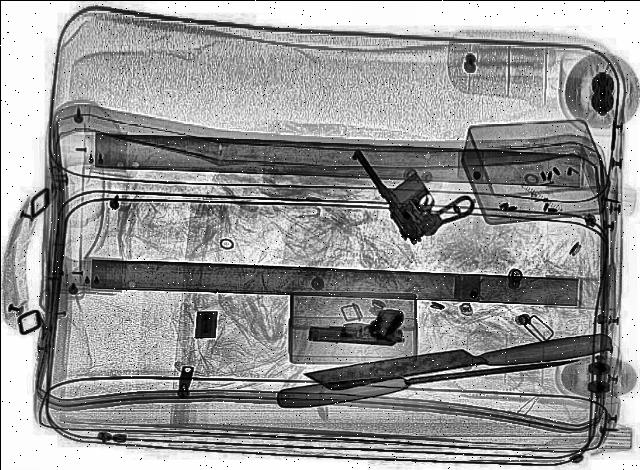Gun: (346, 126, 488, 244), (308, 302, 408, 346)
Knife: (302, 329, 618, 391), (276, 347, 586, 409)
